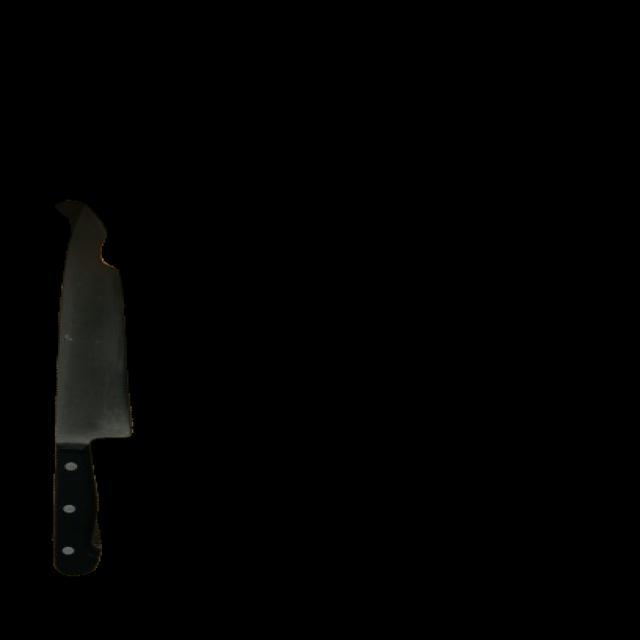knife: (40, 190, 146, 587)
